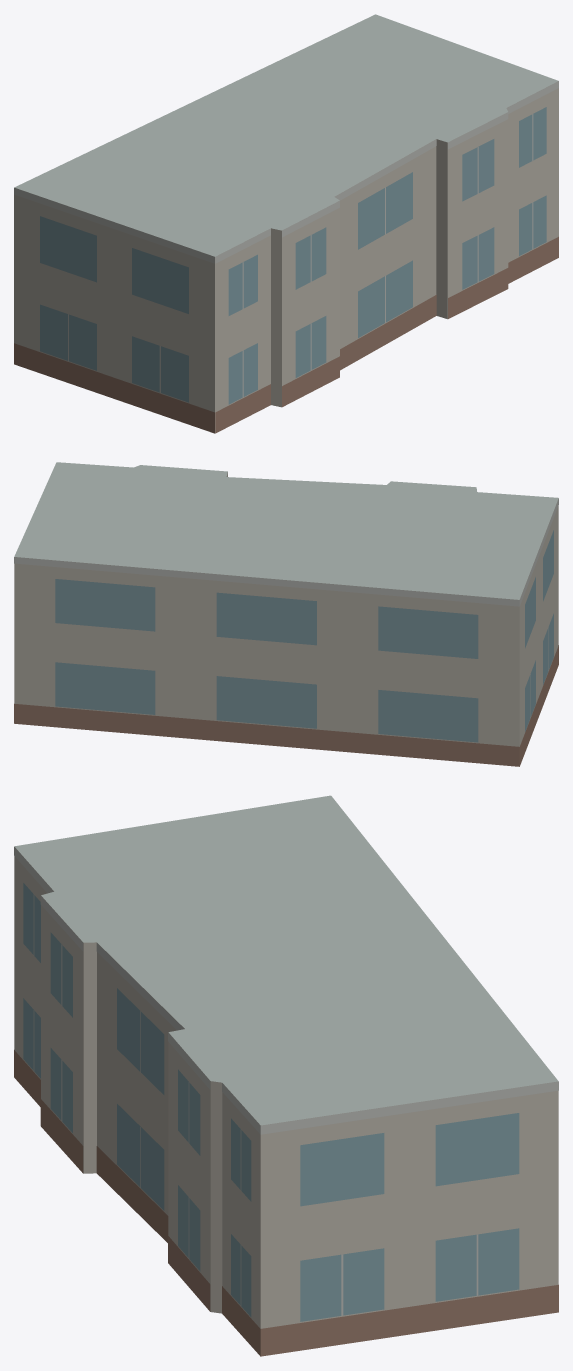
The model's file is survey-upis-32570327.glb.
3 renders of one model, top to bottom at view 1: azimuth 30°, elevation 25°; view 2: azimuth 150°, elevation 25°; view 3: azimuth 270°, elevation 25°, orthographic. The views are drawn at different scales.
Visible parts, largest first — view 1: survey-upis-32570327.tmp; view 2: survey-upis-32570327.tmp; view 3: survey-upis-32570327.tmp.
Boxes of the visible parts, x1,y1,x2,y2 form: survey-upis-32570327.tmp: (14,14,558,433); survey-upis-32570327.tmp: (14,462,558,766); survey-upis-32570327.tmp: (14,795,558,1356).
Size of the model in its own units: 18.71 by 6.1 by 13.05.
